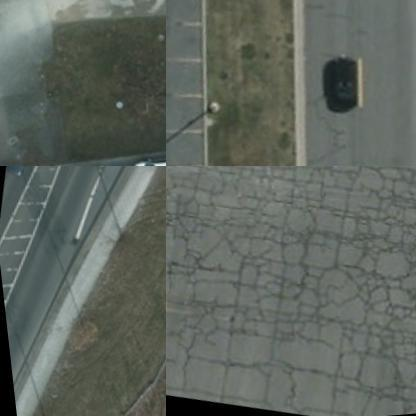car: (316, 56, 362, 119), (0, 166, 44, 187), (119, 152, 165, 165)
